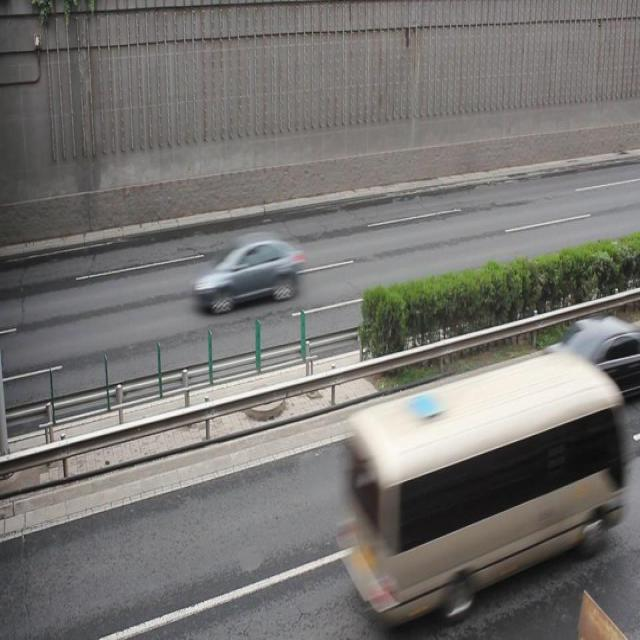car: (190, 232, 301, 311), (552, 314, 640, 395)
van: (336, 352, 612, 620)
